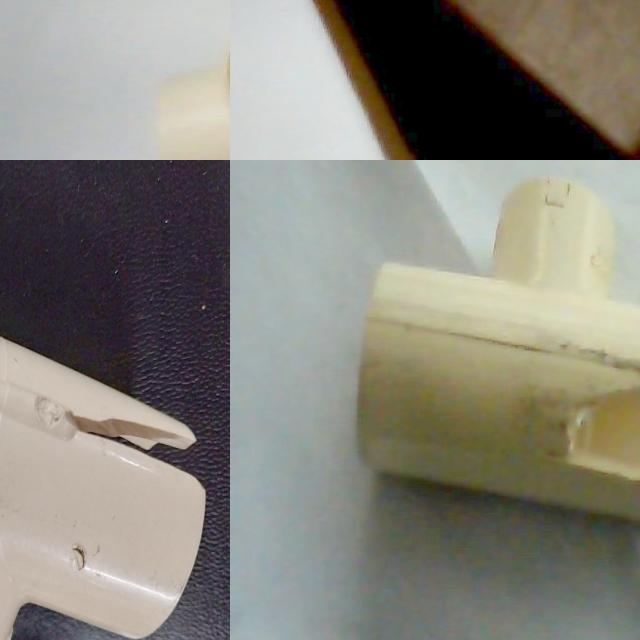Defective: (560, 341, 640, 502), (0, 595, 46, 640)
T Joint: (356, 176, 640, 527)
